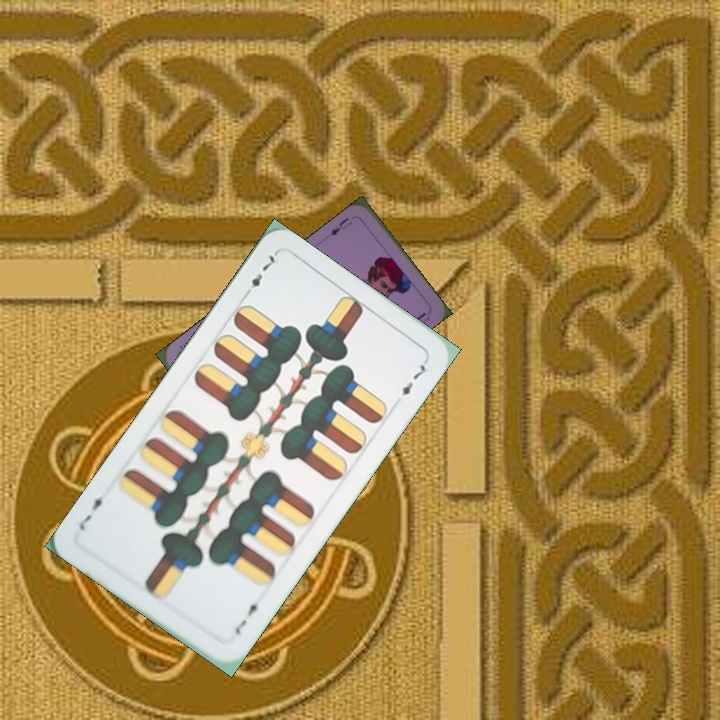E7: (239, 249, 279, 301), (230, 595, 265, 637)
EU: (326, 213, 355, 238)
